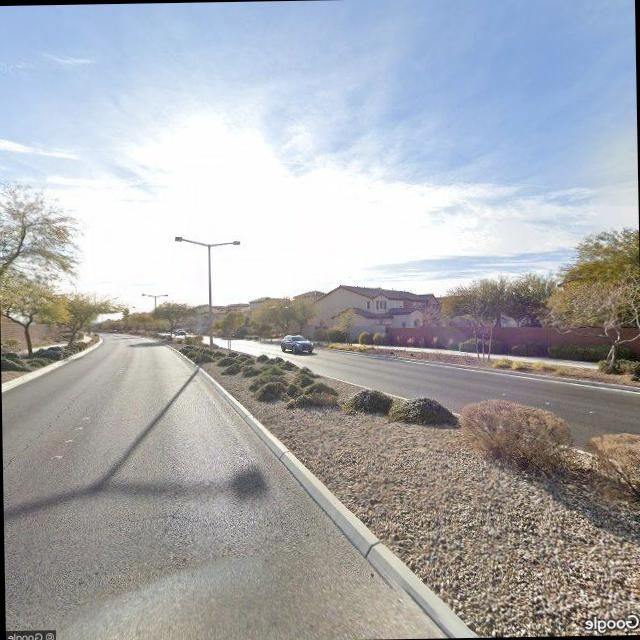crack: (2, 392, 84, 488), (124, 503, 223, 528)
